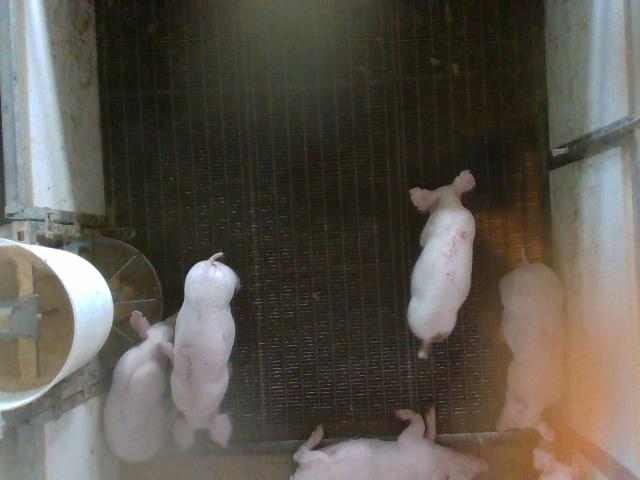pig-3: (171, 252, 240, 450)
pig-4: (498, 255, 565, 441)
pig-5: (408, 170, 475, 357)
